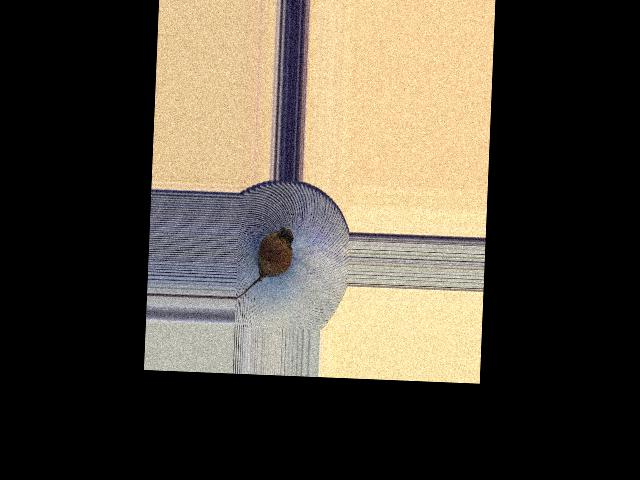beet: (234, 224, 293, 300)
